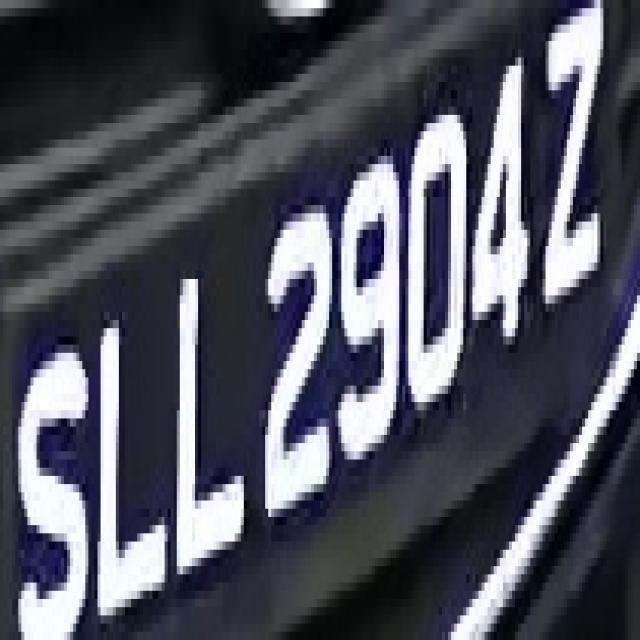0: (396, 82, 466, 419)
2: (262, 189, 341, 517)
4: (466, 17, 540, 386)
9: (336, 131, 402, 468)
L: (171, 270, 259, 582), (91, 312, 174, 632)
S: (0, 4, 1, 8)
Z: (542, 8, 616, 320)
